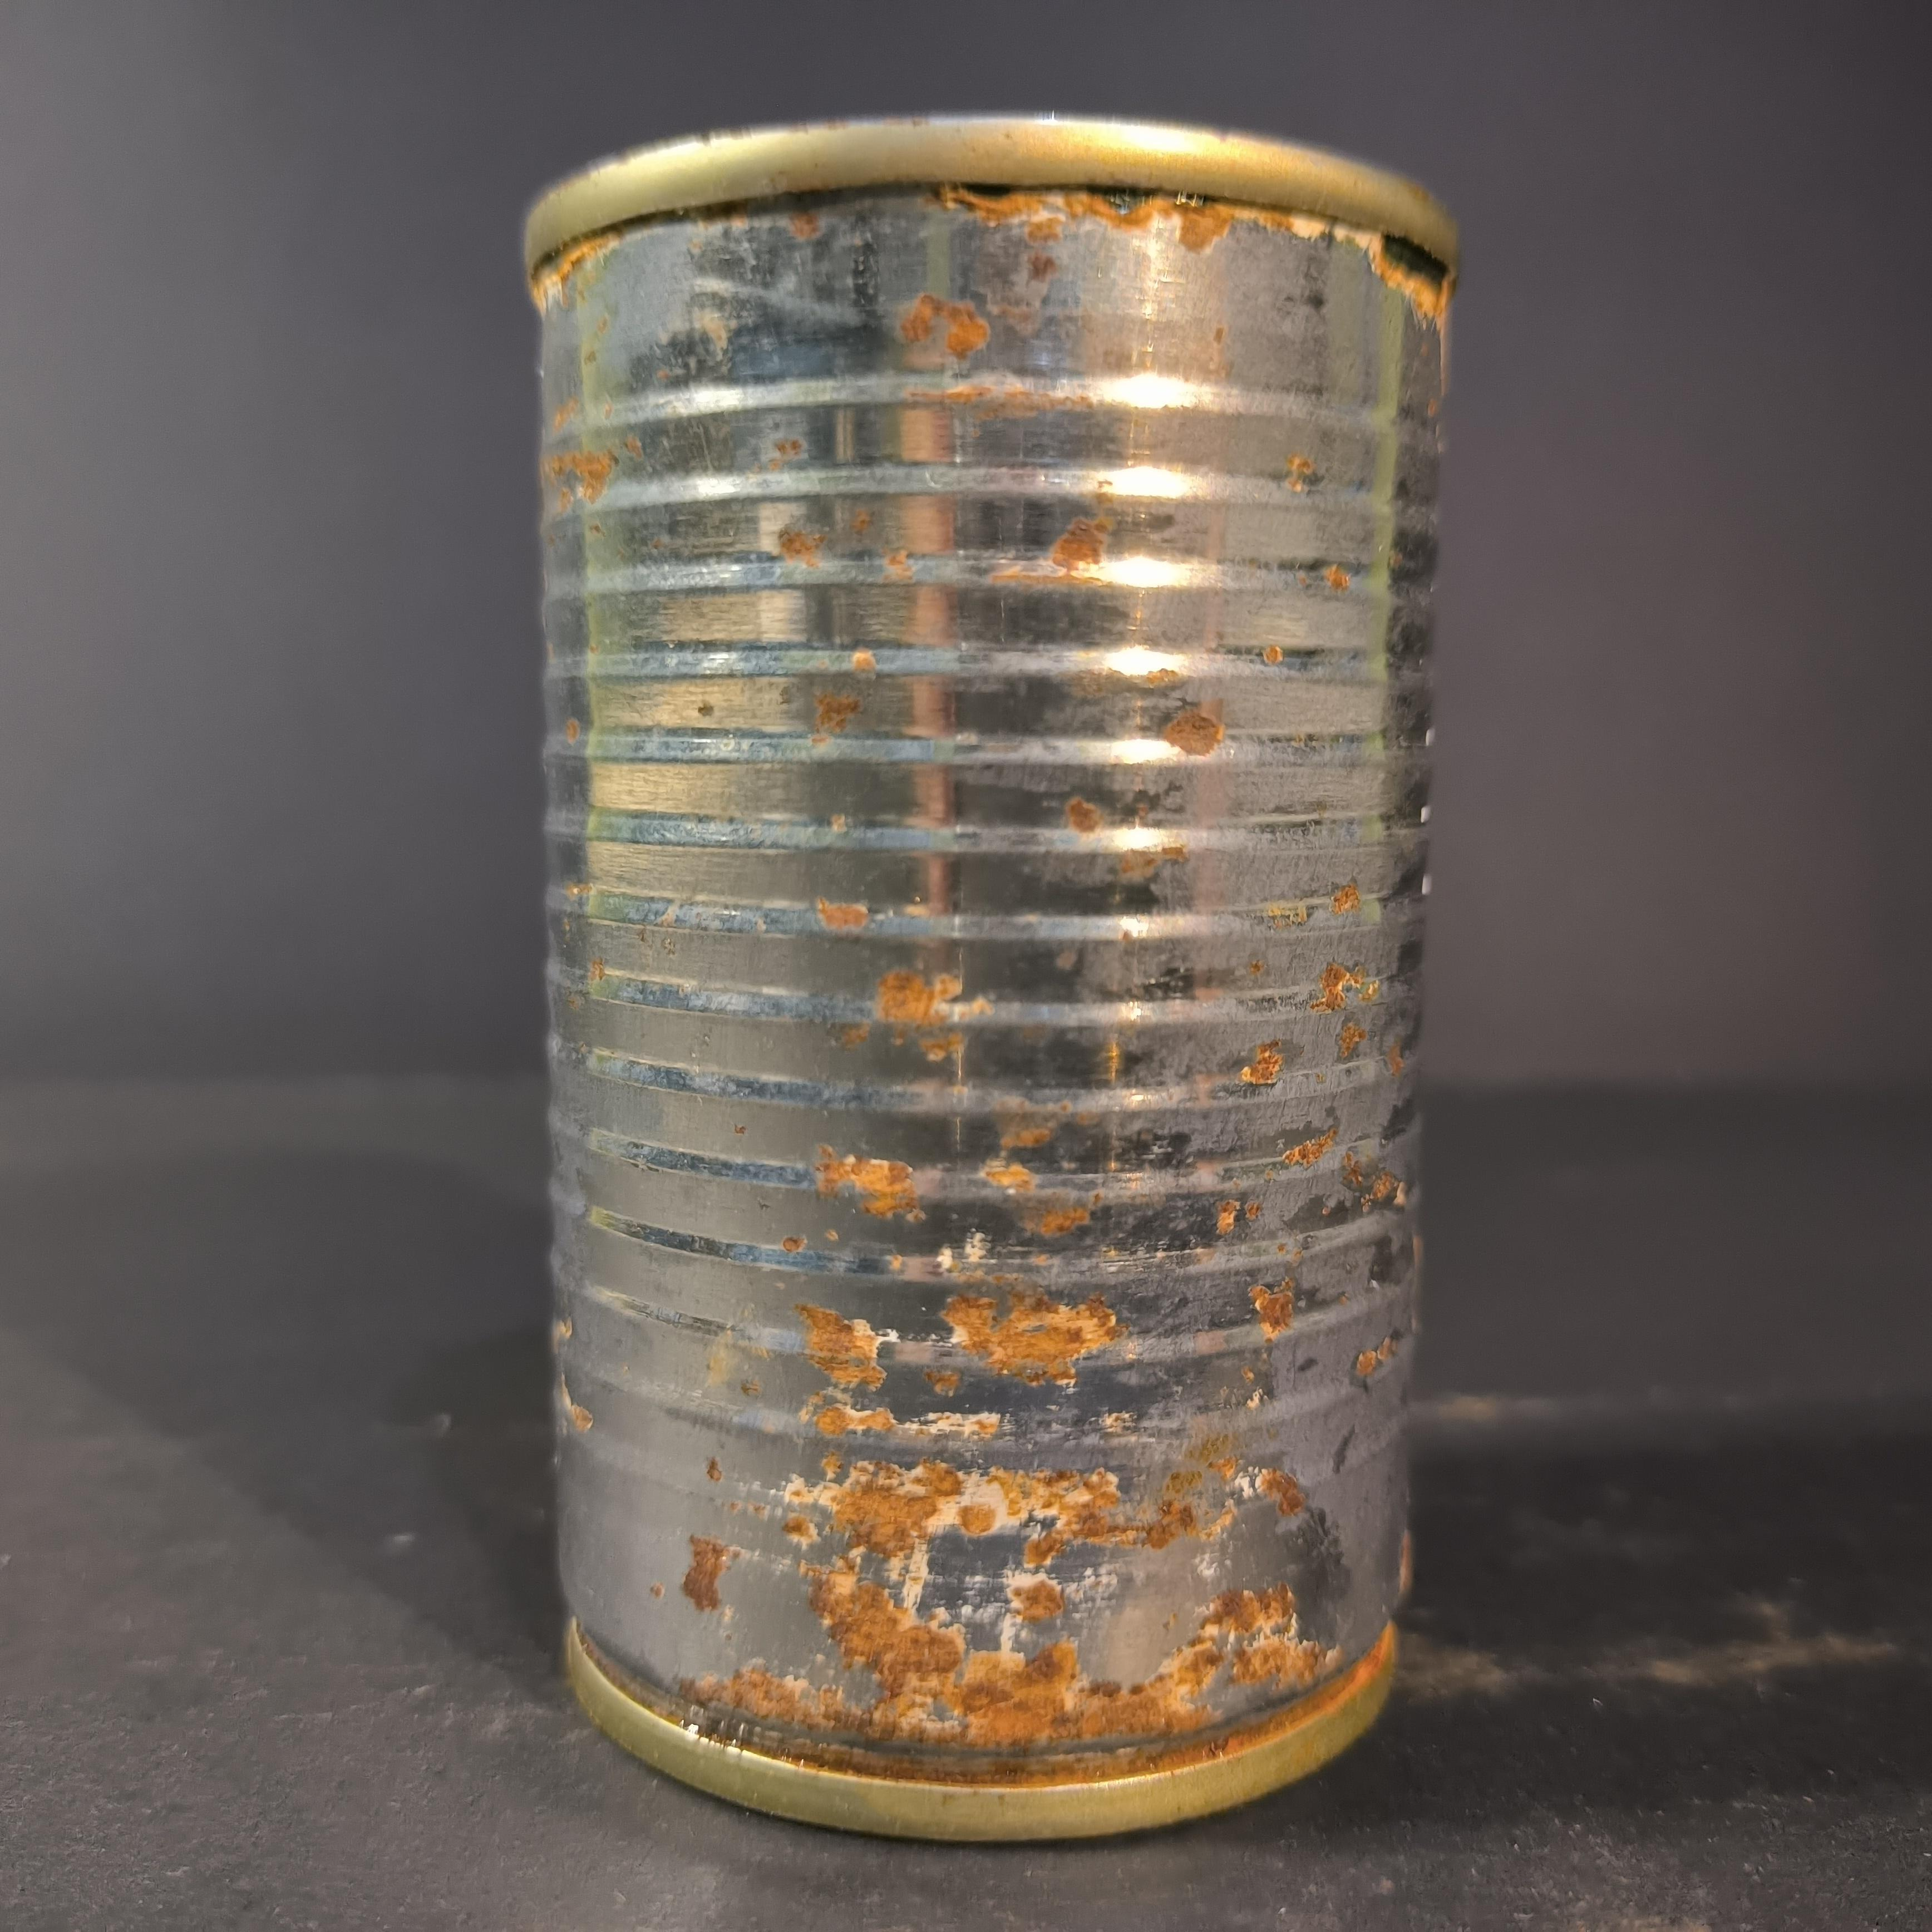Rusted: (495, 83, 1458, 1842)
